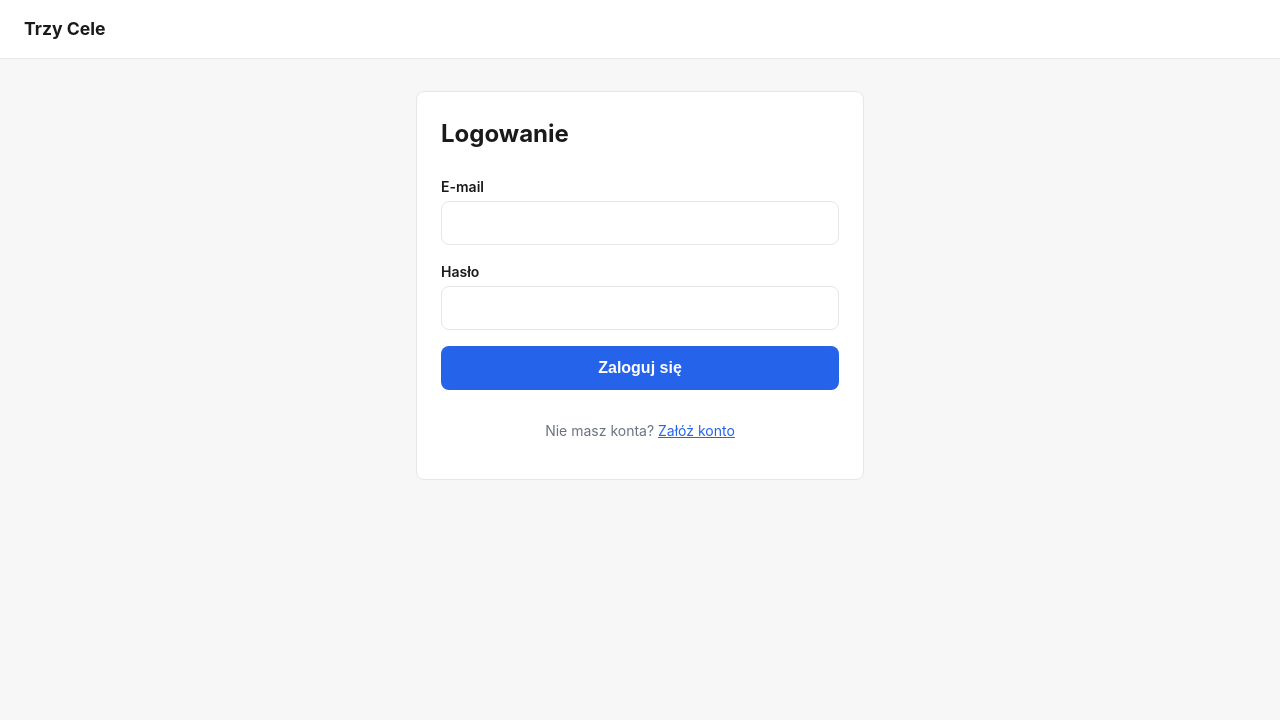
Test: LoginPage › błąd z API (złe dane) → komunikat PL, przycisk znów aktywny
Type "jan@example.com" into the field labelled "E-mail" at [640, 223], box top-left (441, 201), bottom-right (839, 245)
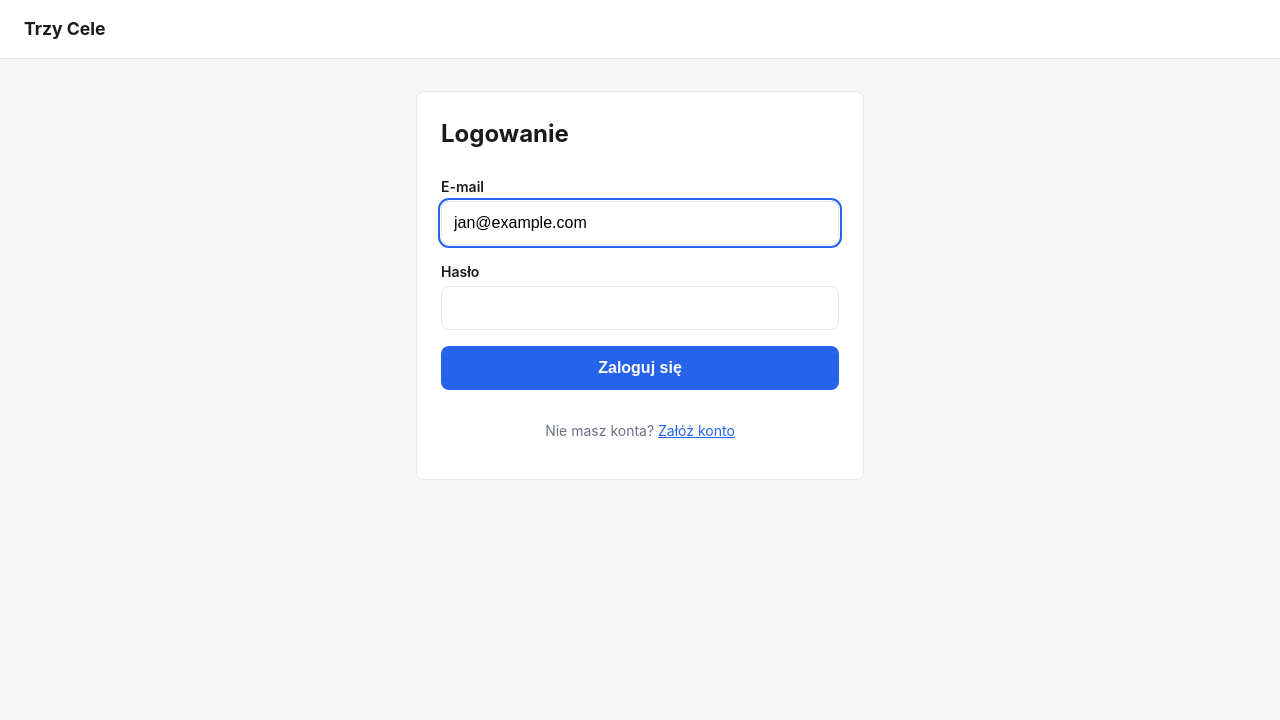
Type "zlehaslo1" into the password field labelled "Hasło" at [640, 308], box top-left (441, 286), bottom-right (839, 330)
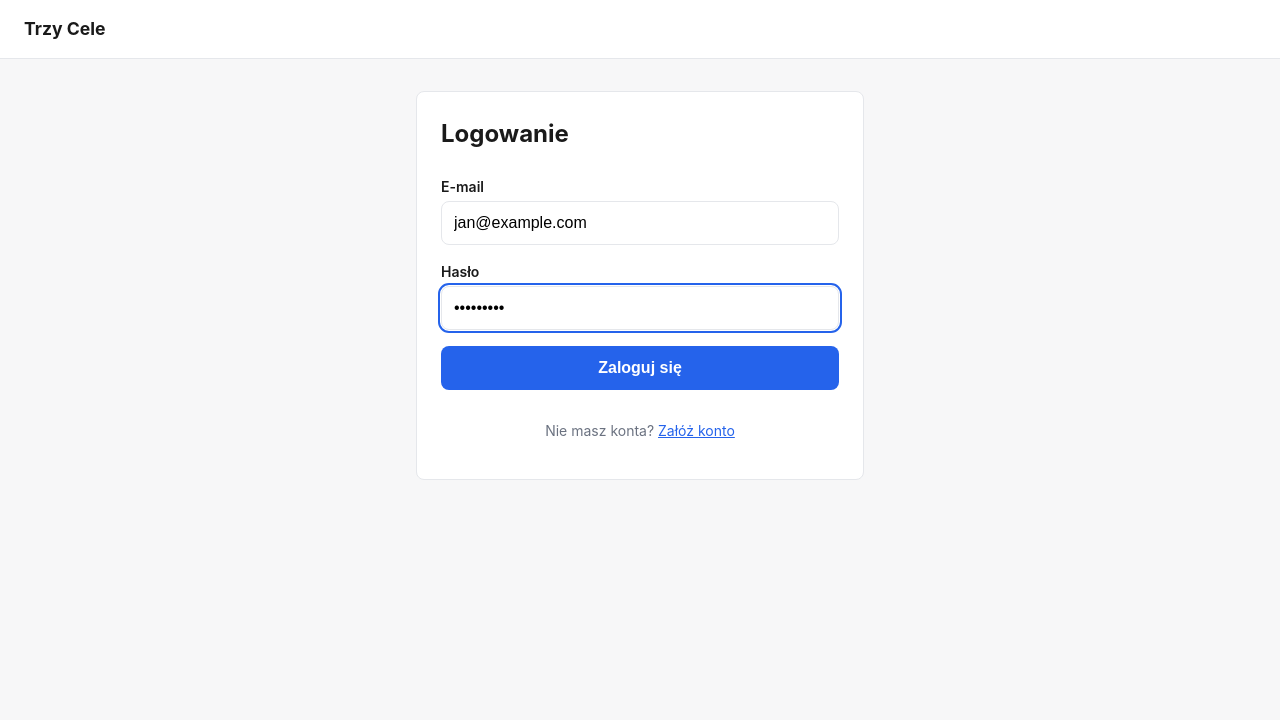
Click the button "Zaloguj się" at [640, 368], box top-left (441, 346), bottom-right (839, 390)
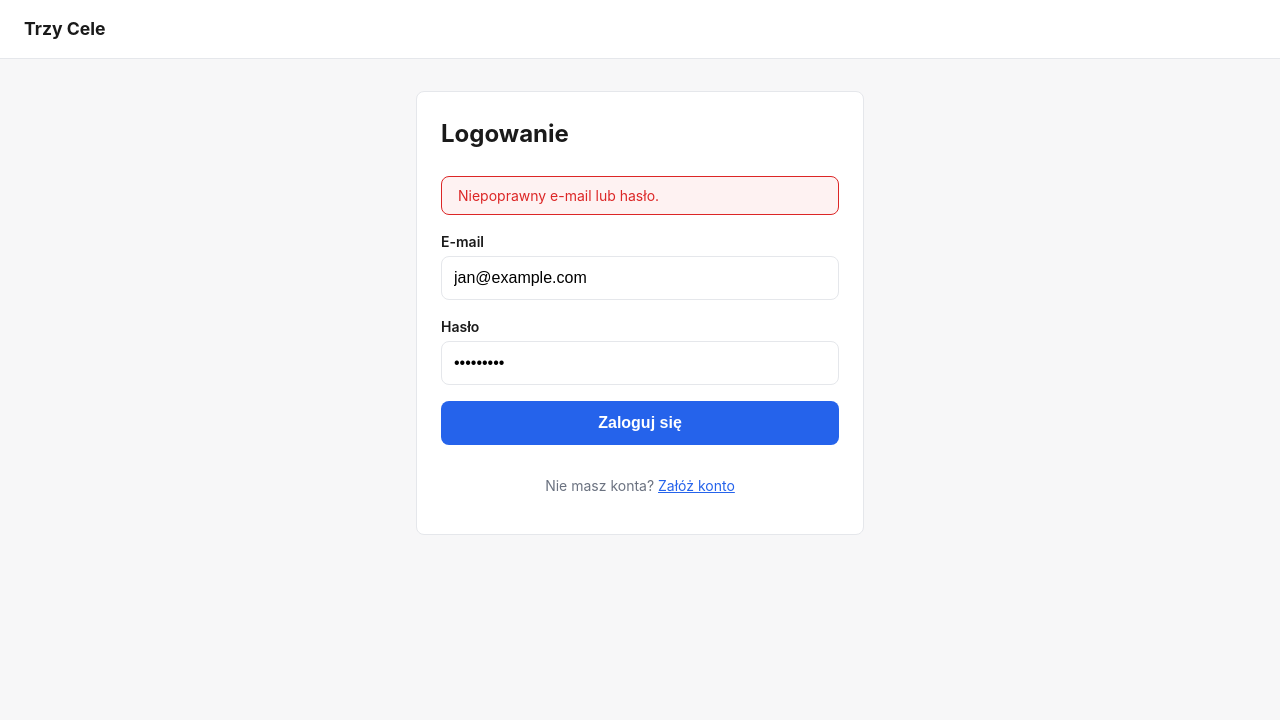
Expected: the button "Zaloguj się" is enabled, top-left (441, 401), bottom-right (839, 445)
Expected: the text "Niepoprawny e-mail lub hasło." is shown, top-left (441, 176), bottom-right (839, 215)
